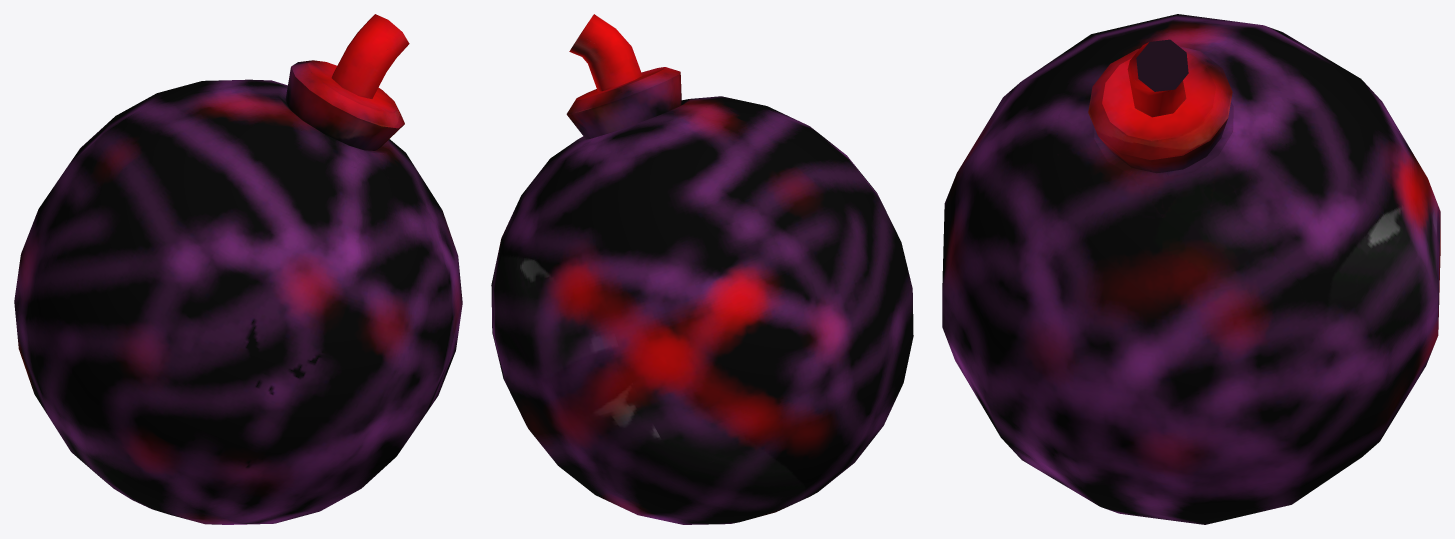
File: bomb.fbx
3 views of the same model, side by side, from view 1: azimuth 30°, elevation 25°; view 2: azimuth 150°, elevation 25°; view 3: azimuth 270°, elevation 25° (orthographic). The views are drawn at different scales.
Parts seen in each view (by area): view 1: node_id6; view 2: node_id6; view 3: node_id6.
Boxes of the visible parts, x1,y1,x2,y2 form: node_id6: (14,14,462,524); node_id6: (491,14,913,524); node_id6: (942,14,1440,524).
Size of the model in its own units: 0.4472 by 0.5141 by 0.4368.
1 material, 1 textured.
